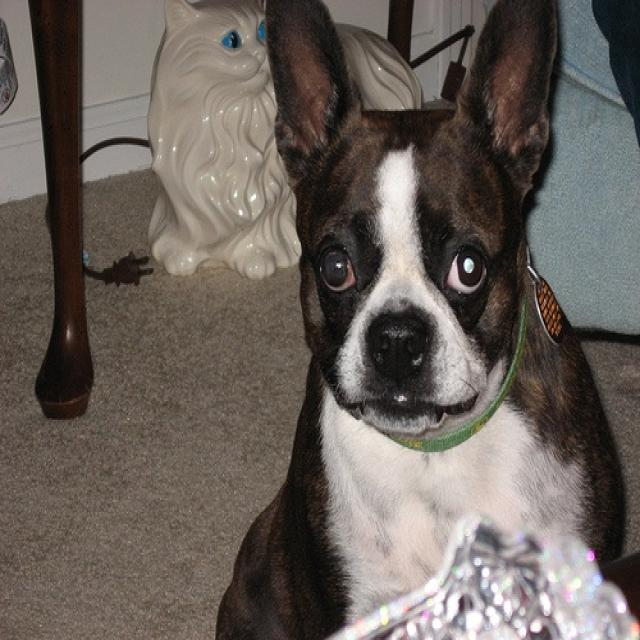dog: (218, 2, 622, 633)
